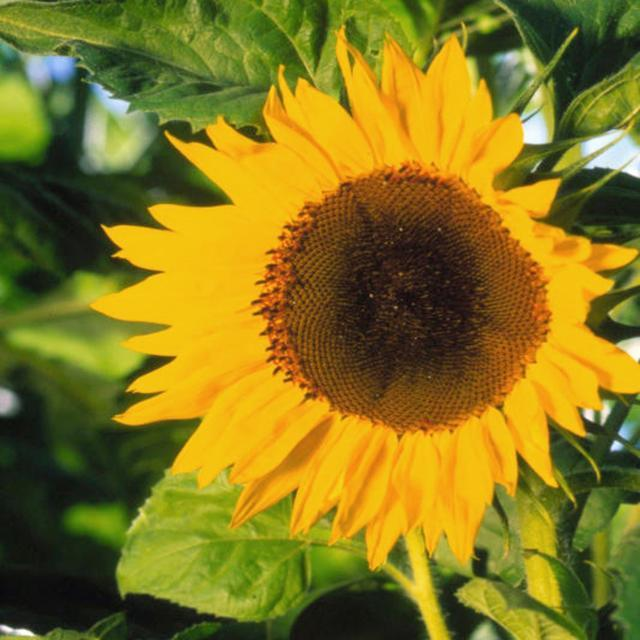sunflower: (88, 26, 640, 571)
